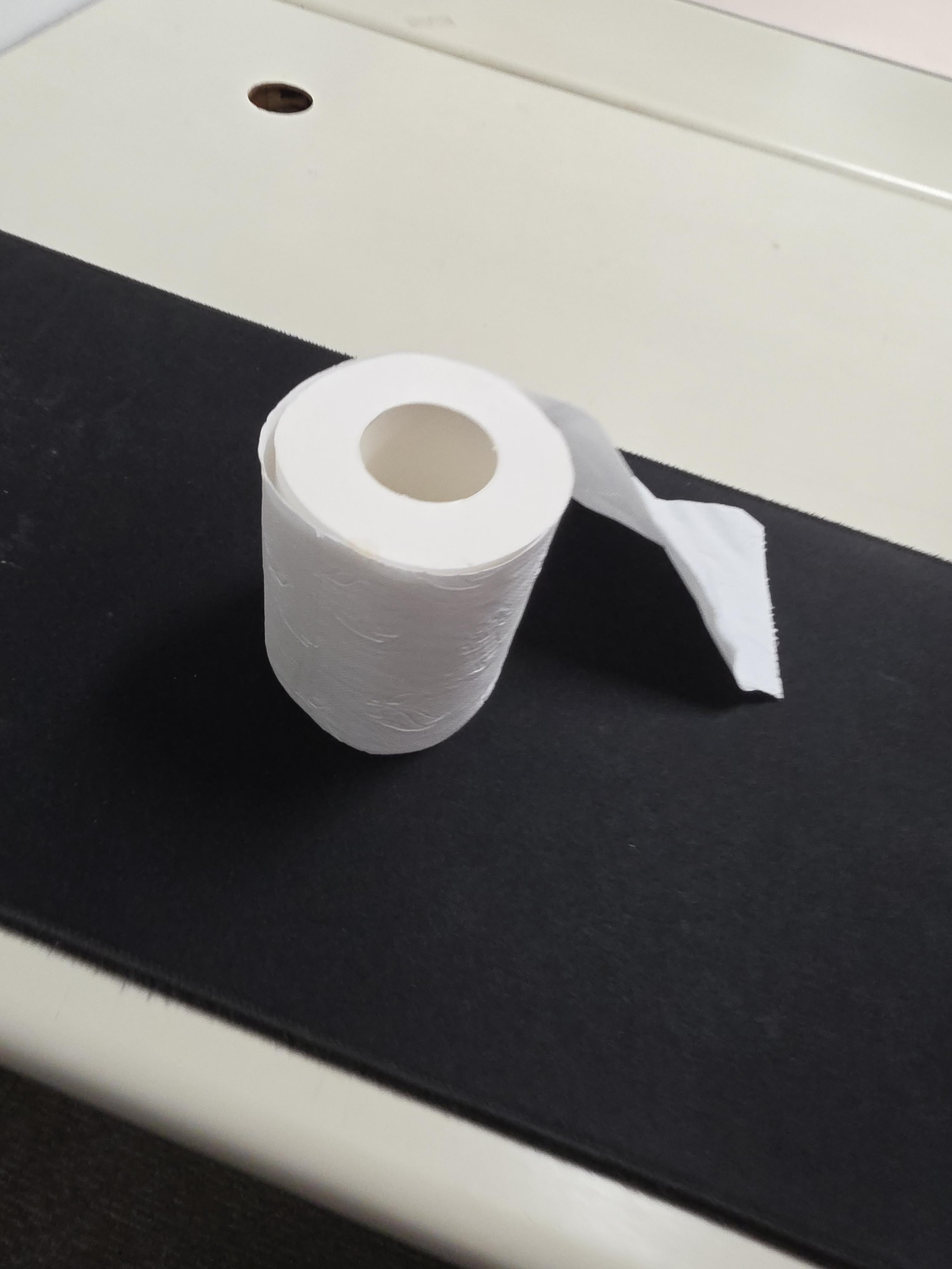tissue: (258, 353, 784, 755)
